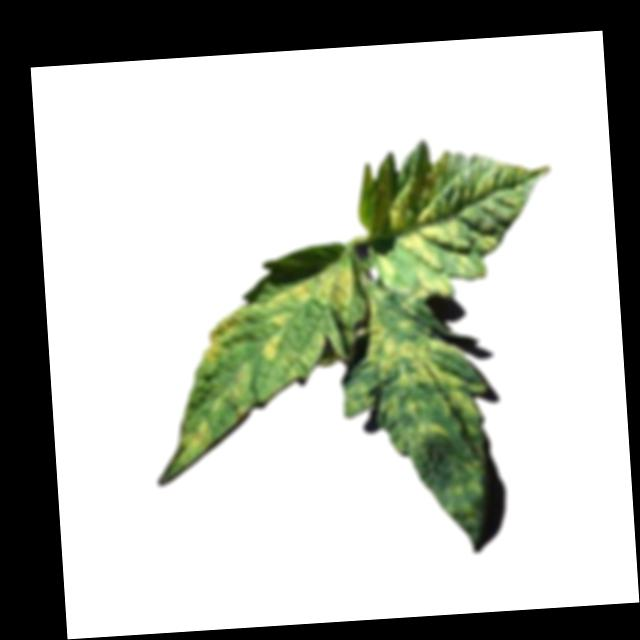Leaf_Mold: (143, 242, 364, 488), (347, 287, 498, 562), (355, 133, 552, 298)
